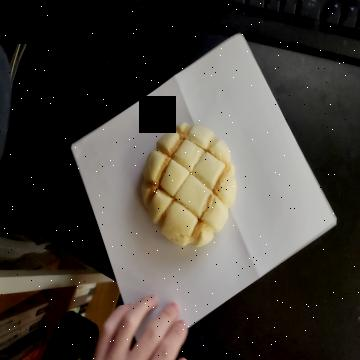melon_bread: (140, 121, 236, 250)
